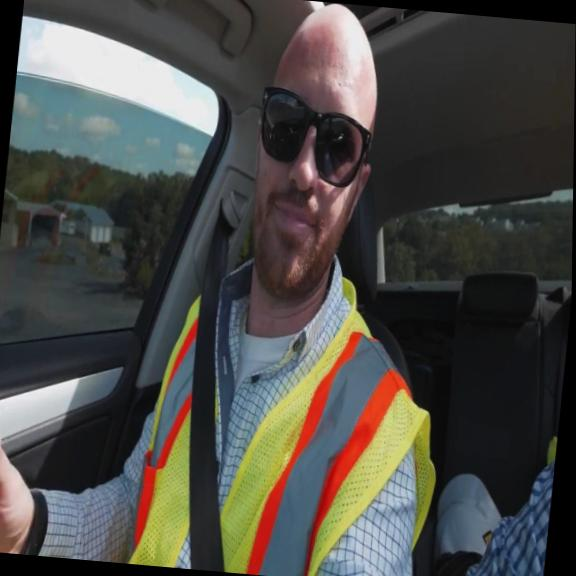safety_vest: (114, 257, 456, 576)
